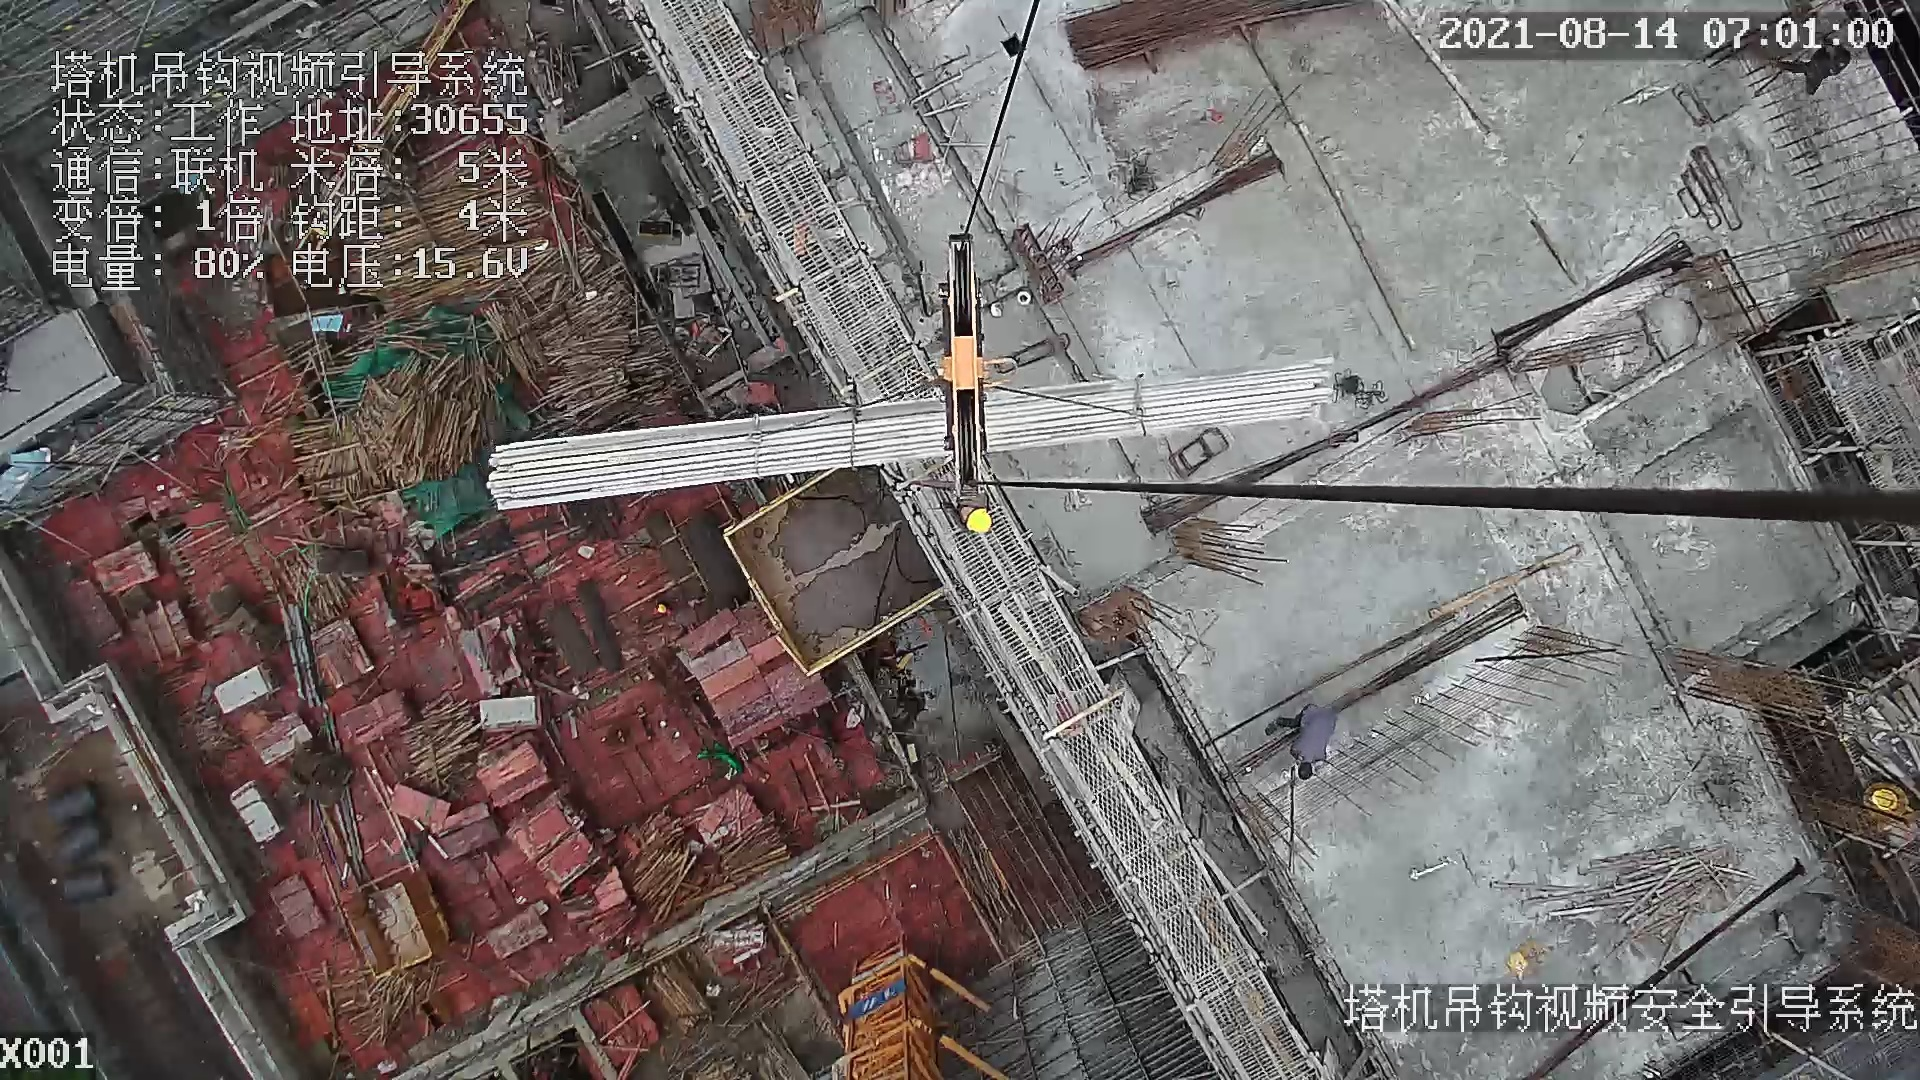helmet: (962, 506, 996, 534)
hook: (920, 227, 992, 496)
person: (1253, 696, 1349, 790), (939, 500, 1017, 542)
